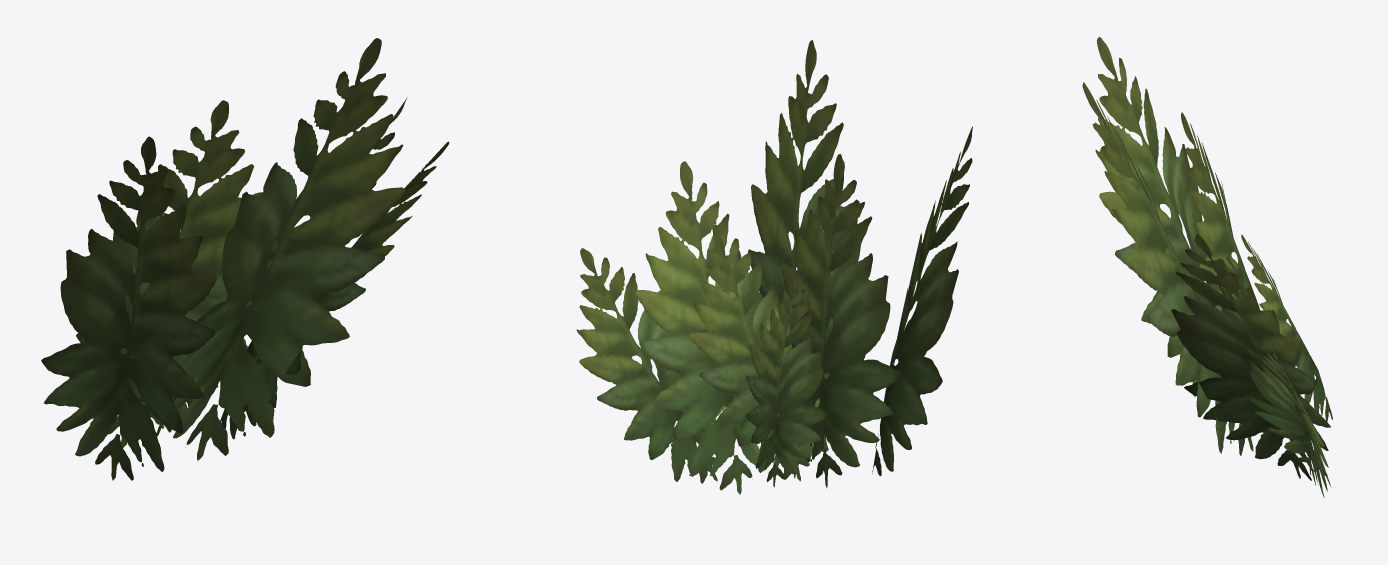
The model's file is Grass_C_1.fbx.
3 views of the same model, side by side, from view 1: azimuth 30°, elevation 25°; view 2: azimuth 150°, elevation 25°; view 3: azimuth 270°, elevation 25° (orthographic). The views are drawn at different scales.
Parts seen in each view (by area): view 1: Grass_C_1__41_; view 2: Grass_C_1__41_; view 3: Grass_C_1__41_.
Part boxes in pixels (x1=…): Grass_C_1__41_: x1=41, y1=38, x2=449, y2=480; Grass_C_1__41_: x1=576, y1=40, x2=972, y2=494; Grass_C_1__41_: x1=1082, y1=37, x2=1332, y2=497.
Size of the model in its own units: 0.2463 by 0.2622 by 0.1697.
